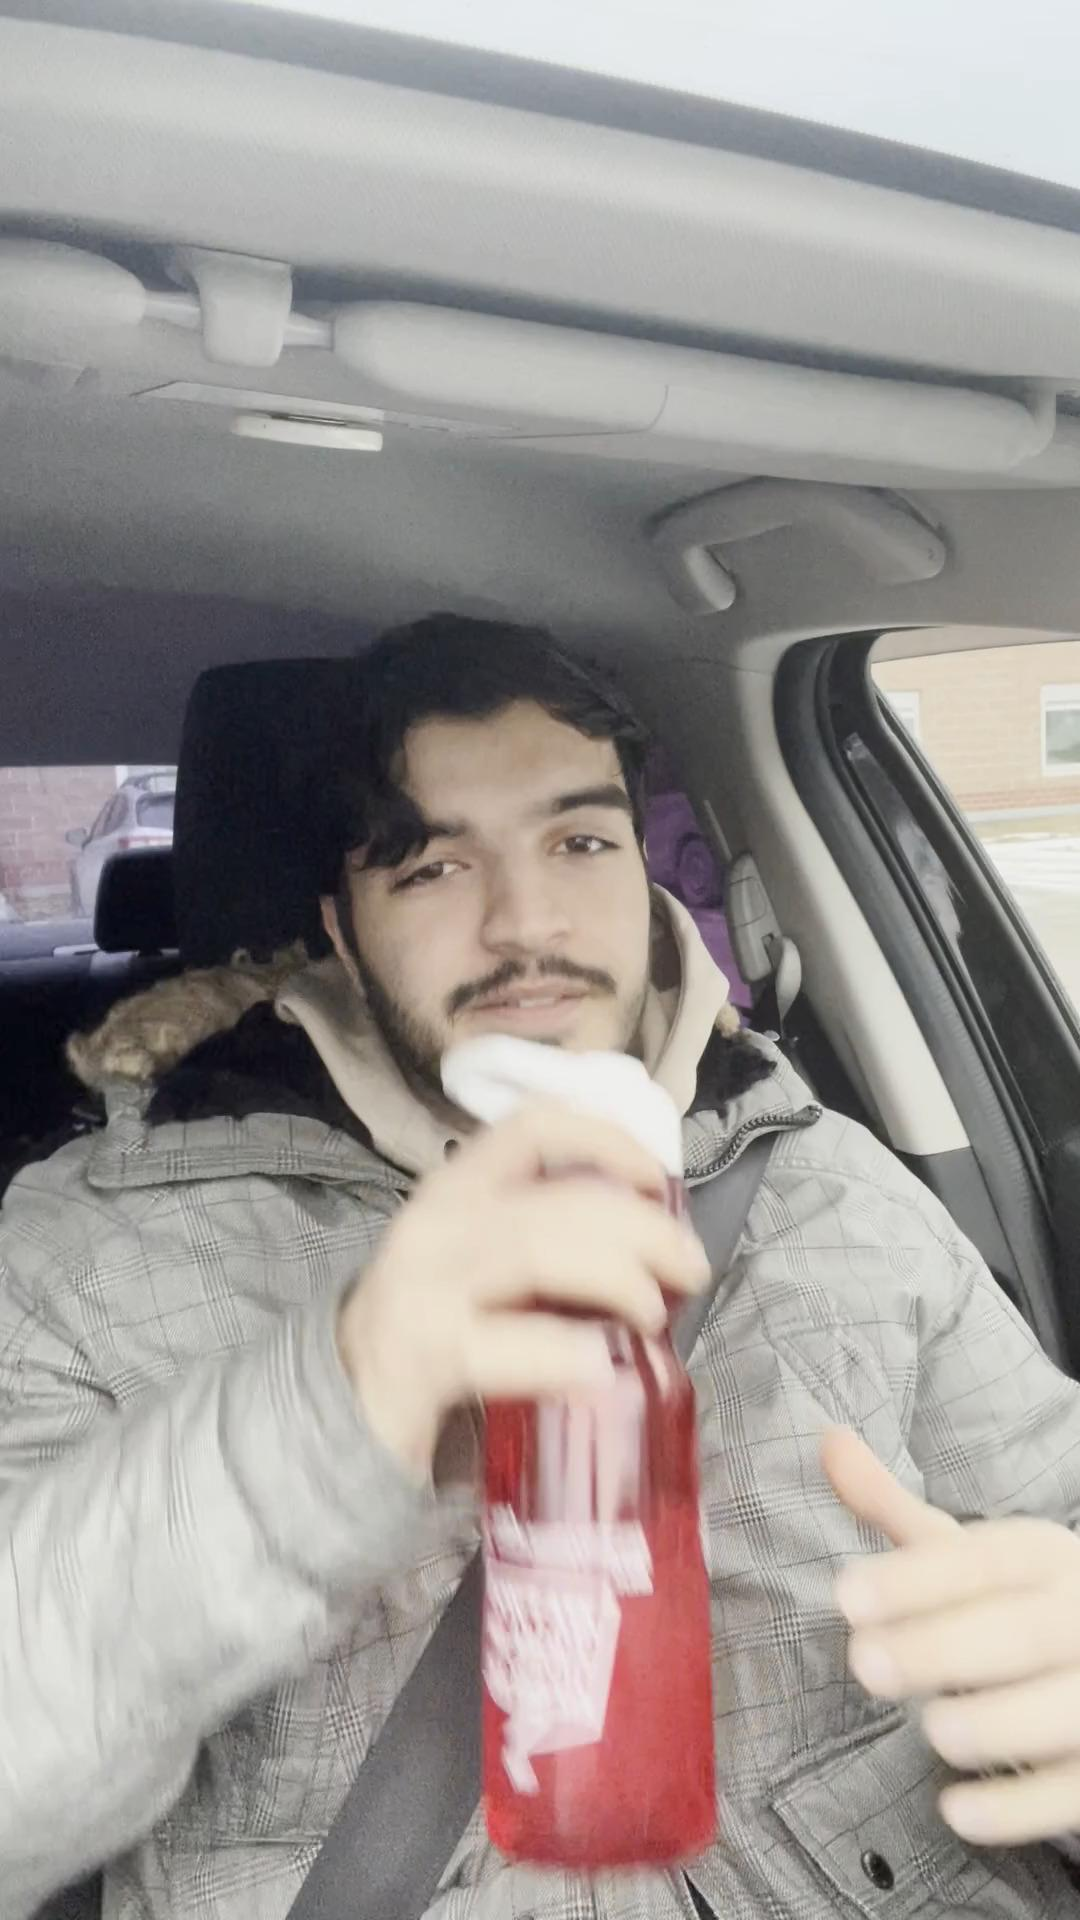drinking: (450, 1164, 740, 1880)
seatbelt: (195, 1175, 870, 1920)
